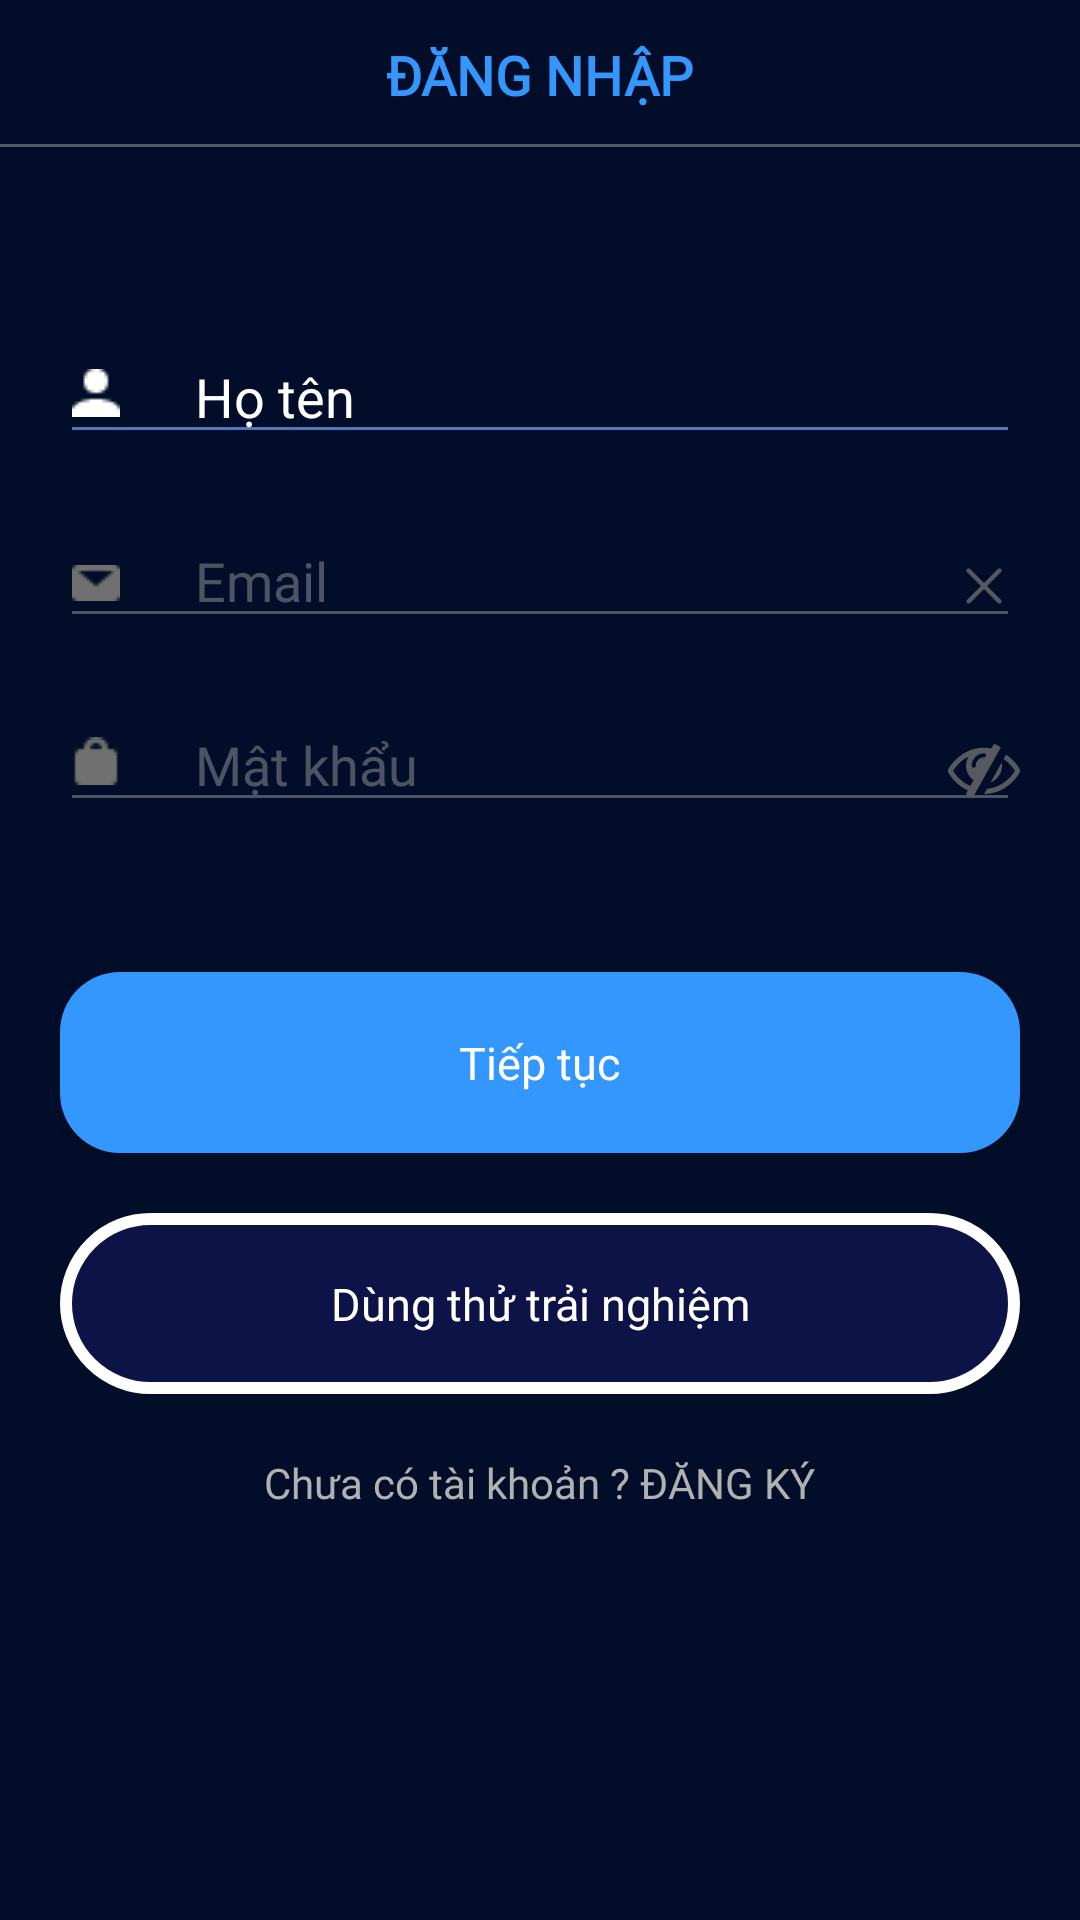

Icon bounding boxes for this 1080px×1920px phone screenshot, format (x1, y1, x2, y2):
clear dis: (966, 568, 1002, 604)
lock: (74, 737, 118, 785)
pass: (948, 744, 1020, 798)
username: (72, 369, 120, 417)
